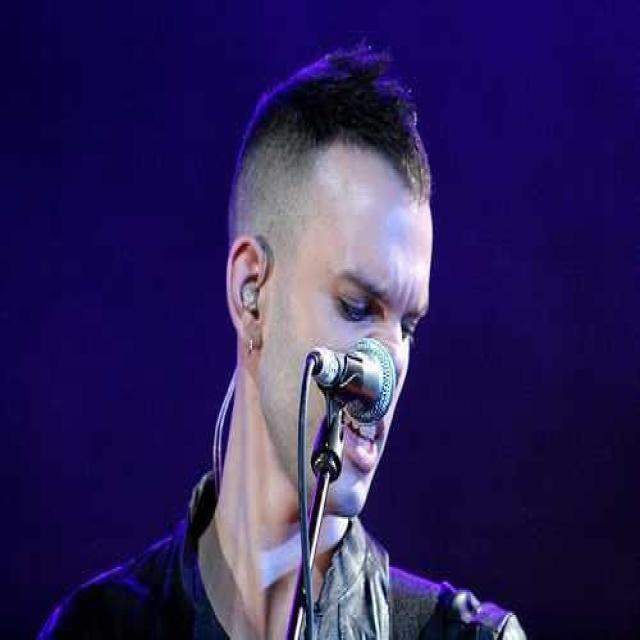microphone: (308, 337, 397, 420)
